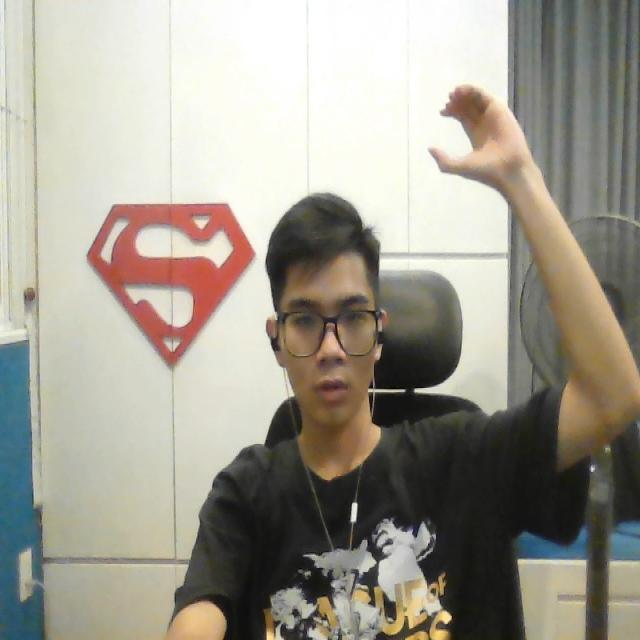C: (426, 80, 523, 187)
